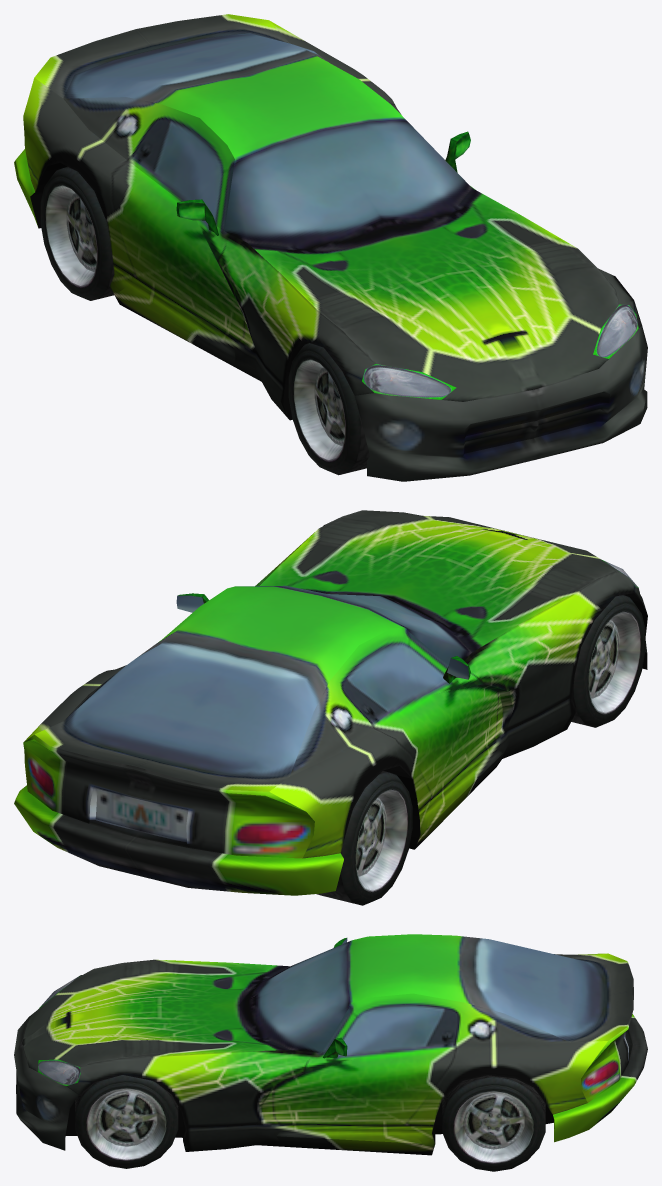
The model's file is Dodge Viper Green.fbx.
3 renders of one model, top to bottom at view 1: azimuth 30°, elevation 25°; view 2: azimuth 150°, elevation 25°; view 3: azimuth 270°, elevation 25°, orthographic. The views are drawn at different scales.
Visible parts, largest first — view 1: viper, FR, RR; view 2: viper, RR, FR; view 3: viper, RL, FL.
Part boxes in pixels (bbox=[...]): viper: bbox=[14, 14, 647, 481]; FR: bbox=[288, 343, 369, 475]; RR: bbox=[40, 166, 114, 300]; viper: bbox=[14, 510, 647, 895]; RR: bbox=[316, 771, 412, 905]; FR: bbox=[571, 595, 645, 727]; viper: bbox=[14, 934, 647, 1155]; RL: bbox=[442, 1075, 545, 1171]; FL: bbox=[75, 1075, 178, 1168].
Size of the model in its own units: 205 by 129 by 470.
Materials: 6 (6 with a texture image).
